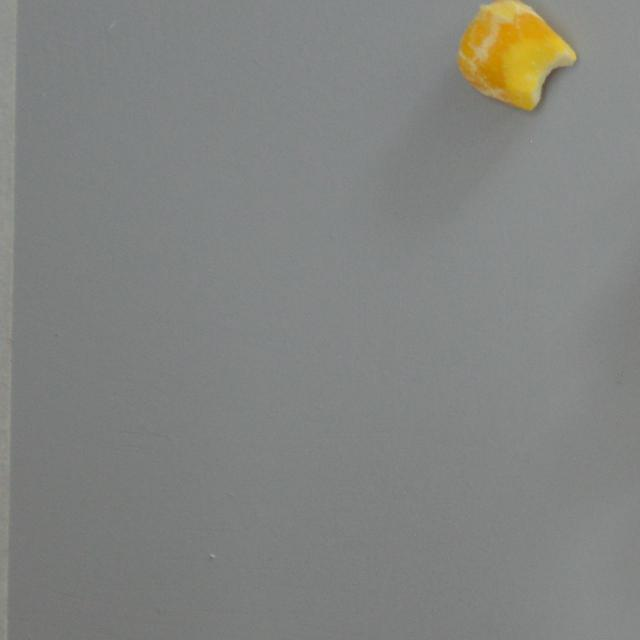pelicula: (454, 0, 578, 112)
